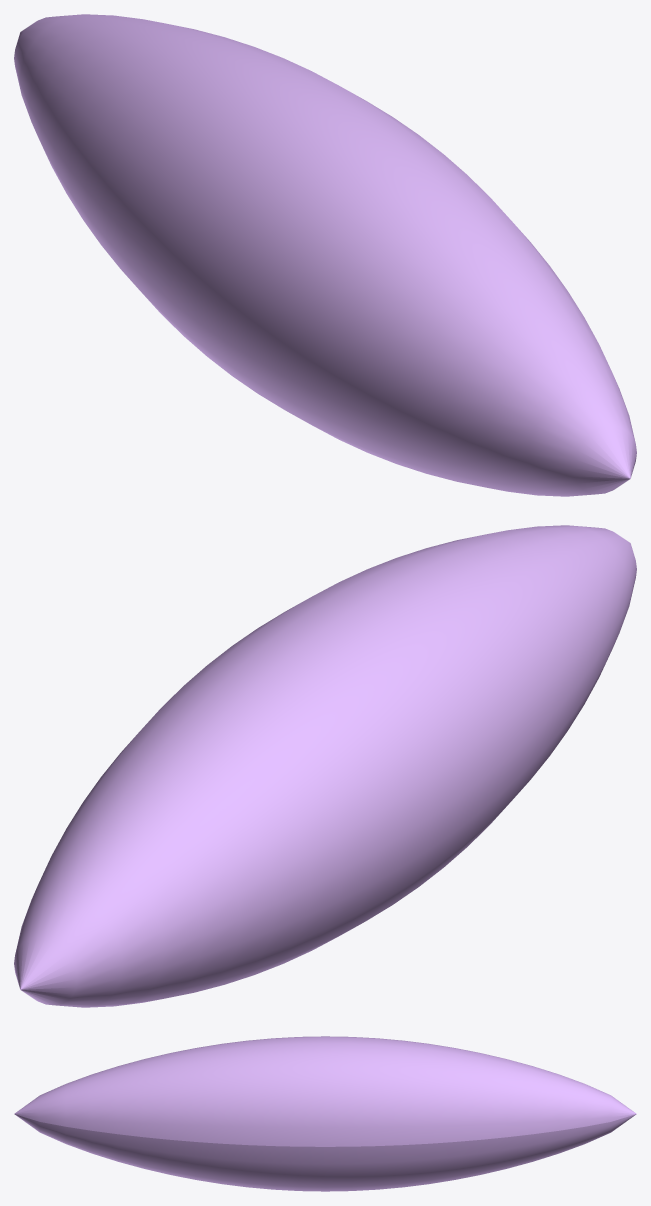
The model's file is BlinkStreak.fbx.
3 views of the same model, one above another, from view 1: azimuth 30°, elevation 25°; view 2: azimuth 150°, elevation 25°; view 3: azimuth 270°, elevation 25° (orthographic). The views are drawn at different scales.
Parts seen in each view (by area): view 1: BlinkStreak; view 2: BlinkStreak; view 3: BlinkStreak.
Boxes of the visible parts, <box> form: BlinkStreak: <box>14,14,636,496</box>; BlinkStreak: <box>14,525,636,1007</box>; BlinkStreak: <box>14,1036,636,1191</box>.
Bounding box in the file's own units: 0.5 × 0.5 × 2.
